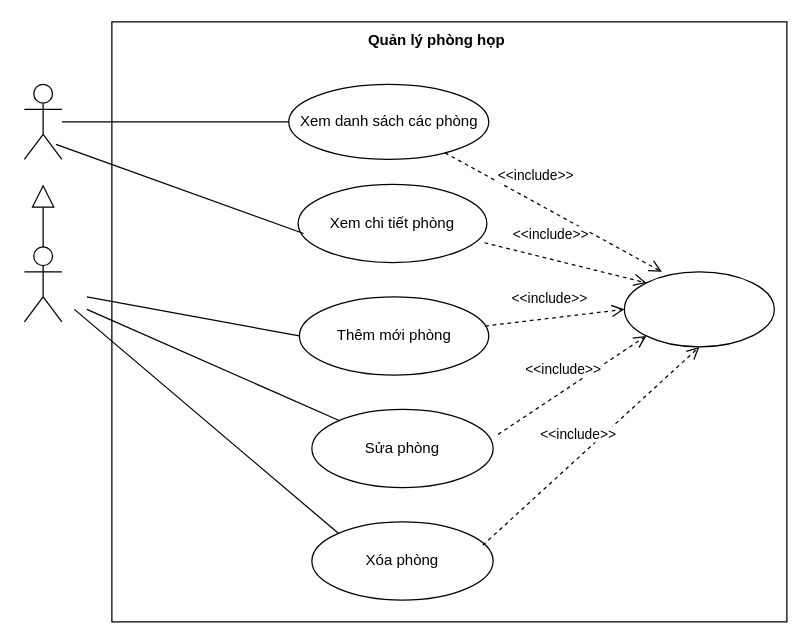
Some shapes in this 809 by 644 pixel diagram are drawn without their labels. Each missing label, with the centre of its shape:
"Admin" goes at point (42, 284).
"User" goes at point (42, 121).
"Đăng nhập" goes at point (698, 309).
